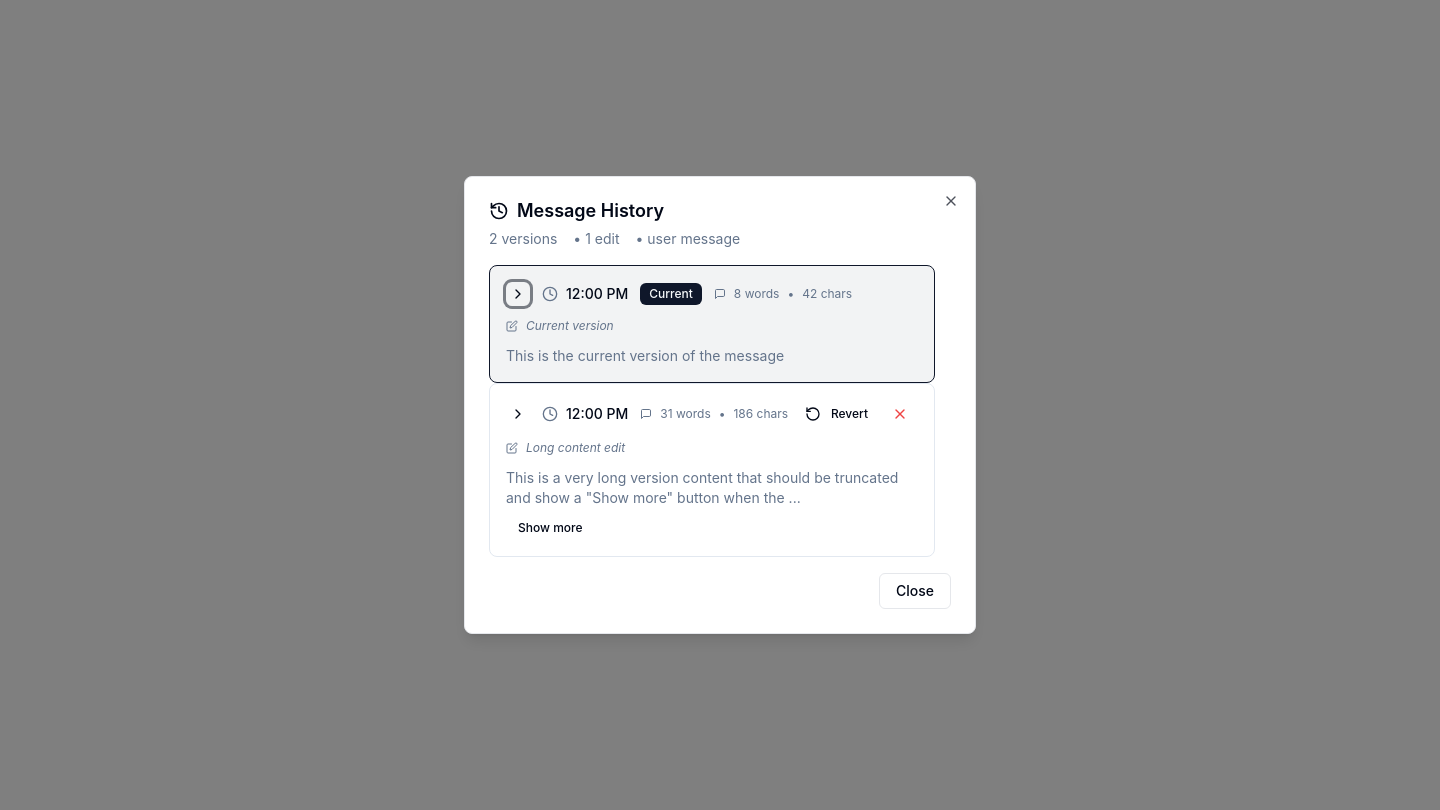
Scenario: MessageHistoryModal › should handle long content with show more/less functionality
Expected: the text "This is a very long version content that should be truncated" is shown, left=506, top=469, right=898, bottom=506
Click show more
Click the button "Show more".
click(550, 528)  # box left=506, top=516, right=594, bottom=540
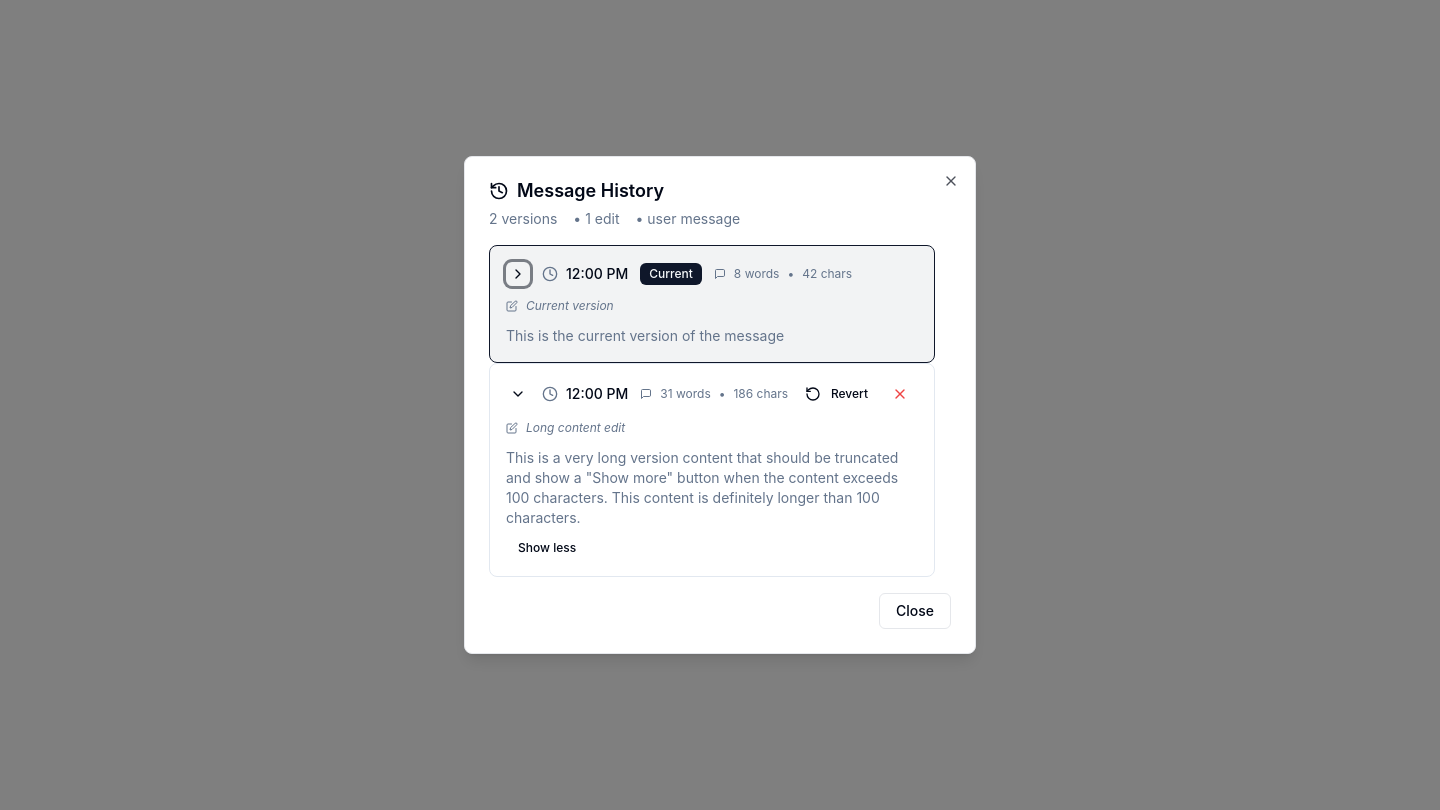
Expected: the text "This is a very long version content that should be truncated and show a \"Show more\" button when the content exceeds 100 " is shown, left=506, top=449, right=898, bottom=526
Expected: the button "Show less" is shown, left=506, top=536, right=588, bottom=560
